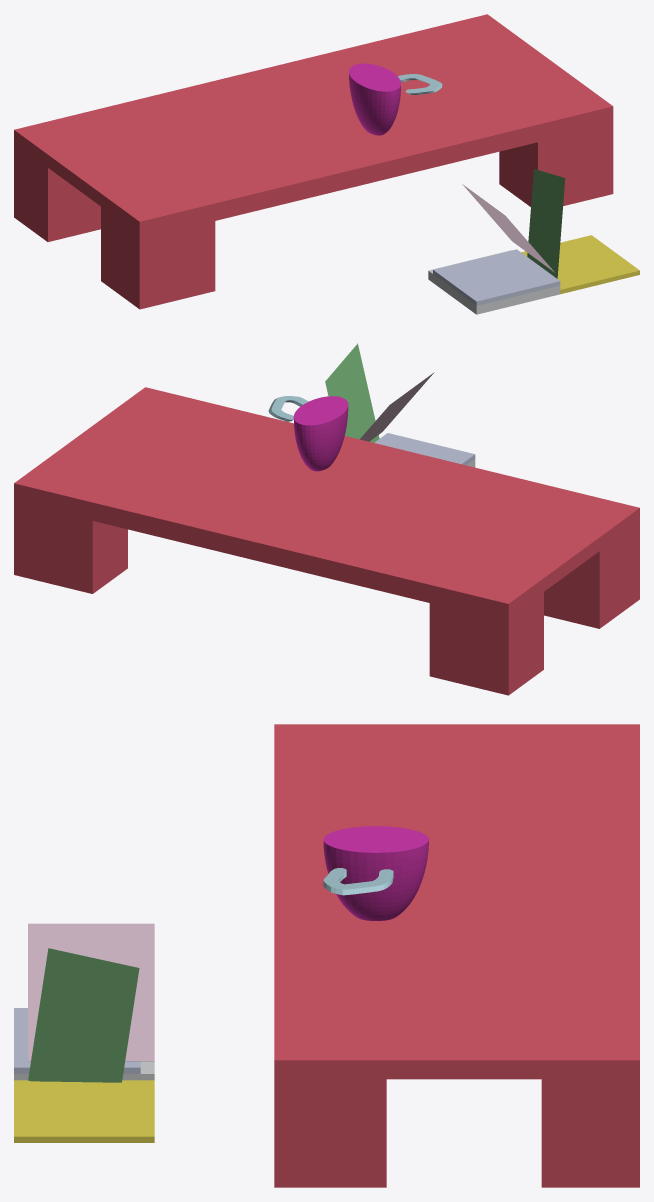
The model's file is TABLE (1).glb.
3 views of the same model, one above another, from view 1: azimuth 30°, elevation 25°; view 2: azimuth 150°, elevation 25°; view 3: azimuth 270°, elevation 25° (orthographic). The views are drawn at different scales.
Visible parts, largest first — view 1: Mesh_Mesh_head_geo.001_lambert2SG.001; view 2: Mesh_Mesh_head_geo.001_lambert2SG.001; view 3: Mesh_Mesh_head_geo.001_lambert2SG.001.
Part boxes in pixels (left/top/right/bottom): Mesh_Mesh_head_geo.001_lambert2SG.001: left=14, top=14, right=639, bottom=314; Mesh_Mesh_head_geo.001_lambert2SG.001: left=14, top=343, right=639, bottom=695; Mesh_Mesh_head_geo.001_lambert2SG.001: left=14, top=724, right=639, bottom=1187.
Size of the model in its own units: 113 by 34 by 89.
